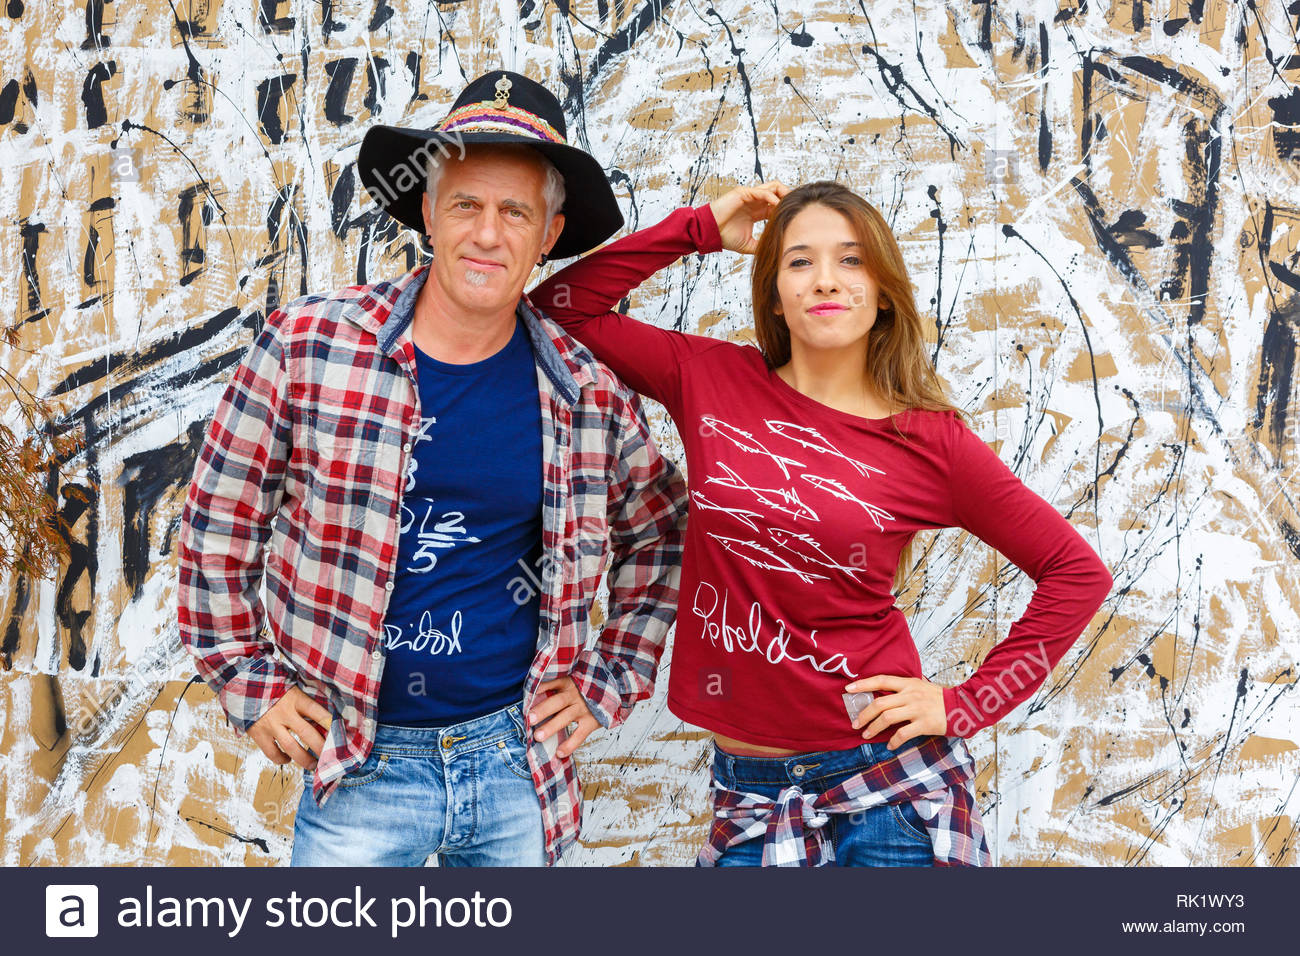person: (620, 129, 1088, 750), (302, 65, 661, 547)
